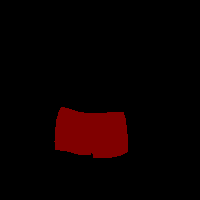mutande: (54, 106, 128, 158)
